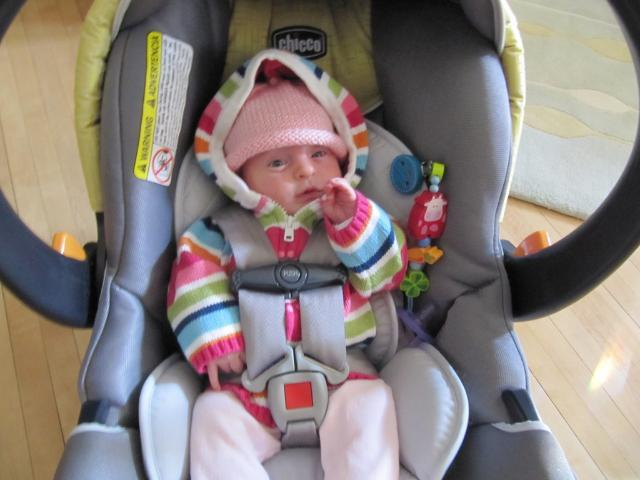SafeDriving: (262, 148, 294, 174), (305, 142, 334, 166)
Seatbelt: (208, 200, 352, 450)
